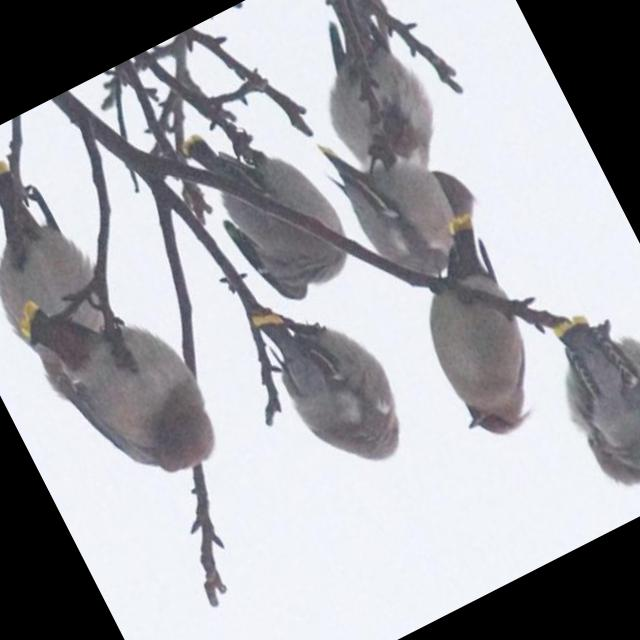bird: (6, 246, 232, 511), (380, 212, 568, 449), (235, 258, 424, 491), (311, 94, 498, 303), (275, 0, 456, 195), (198, 130, 362, 316), (0, 144, 118, 367), (536, 301, 640, 501)
